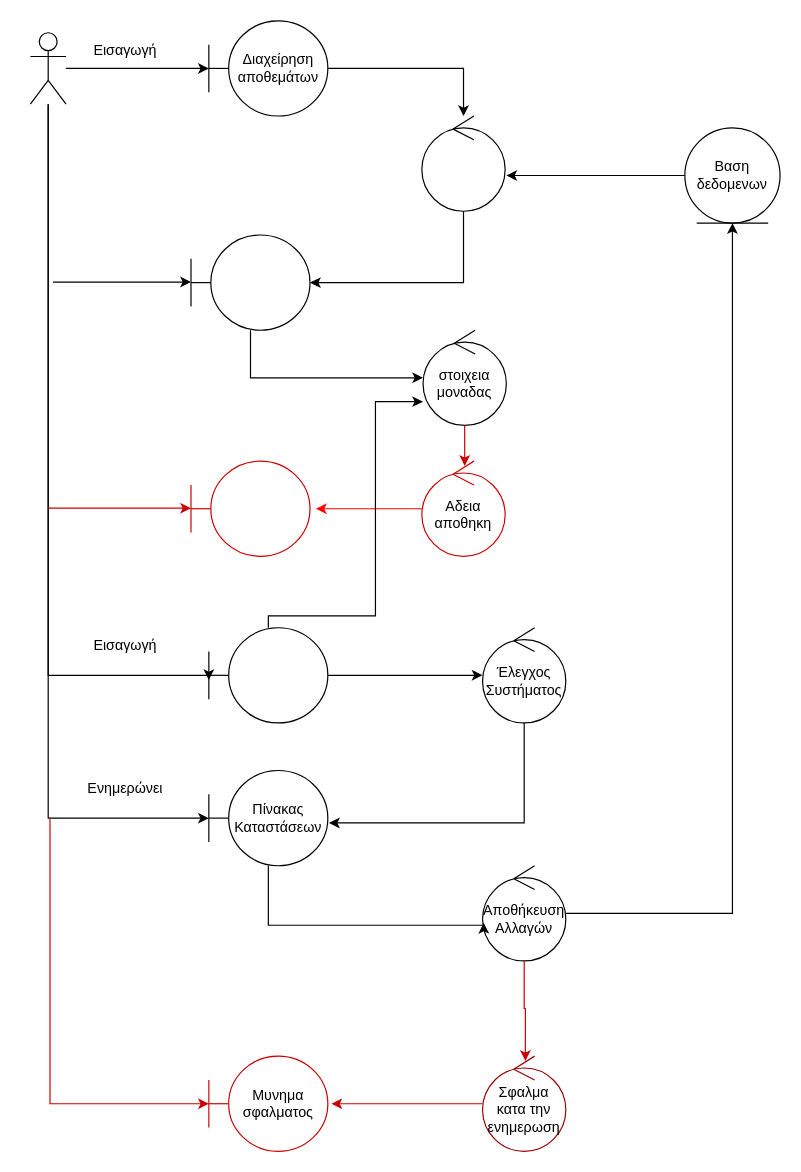
Some shapes in this 801 by 1172 pixel diagram are drawn without their labels. The shapes that lost their labels are listed below. From the top down, each one's centre as x and y in pixels, then its label:
(47,68): Χρήστης
(463,163): Ανάκτηση
(250,282): Καταγραφη νεας μοναδας
(250,508): Μη διαθεσιμο αποθεμα
(268,675): Στοιχεία μονάδας
